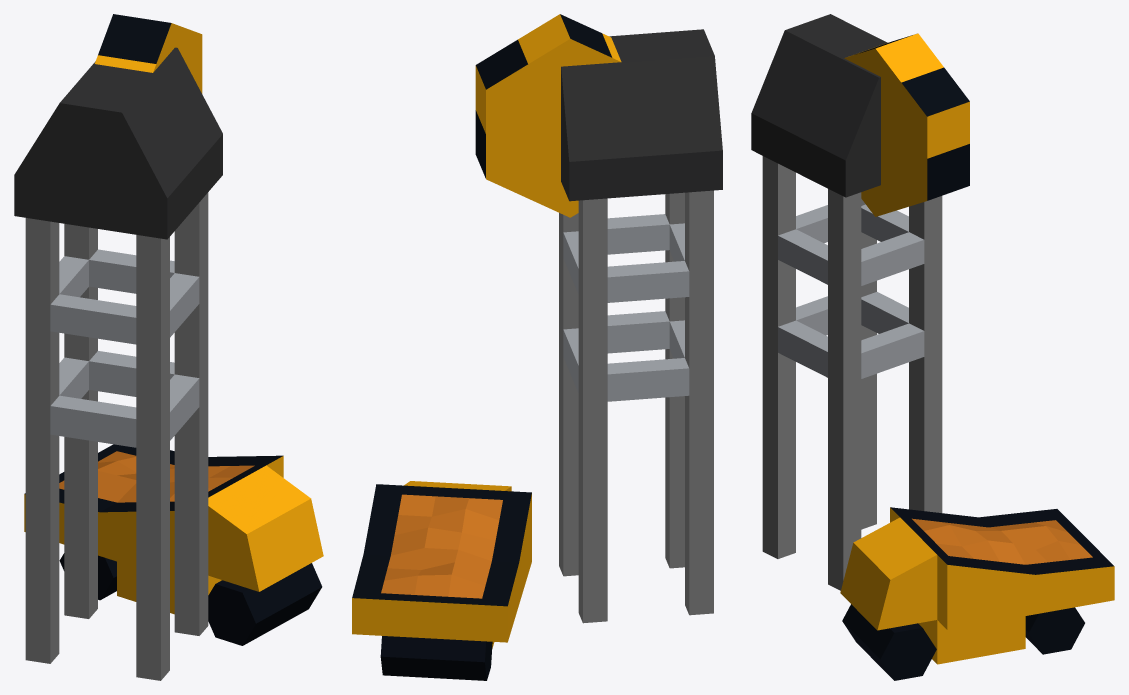
File: Border_2_exploring.fbx
The picture shows the model from 3 angles, left to right: view 1: azimuth 30°, elevation 25°; view 2: azimuth 150°, elevation 25°; view 3: azimuth 270°, elevation 25°; orthographic projection. The views are drawn at different scales.
Parts seen in each view (by area): view 1: Cube.004, Cube.005, Cylinder.002; view 2: Cube.004, Cube.005, Cylinder.002; view 3: Cube.004, Cube.005, Cylinder.002.
Boxes of the visible parts, x1=… form: Cube.004: x1=14, y1=47, x2=222, y2=680; Cube.005: x1=24, y1=444, x2=323, y2=645; Cylinder.002: x1=94, y1=14, x2=202, y2=93; Cube.004: x1=559, y1=29, x2=722, y2=623; Cube.005: x1=352, y1=481, x2=531, y2=680; Cylinder.002: x1=475, y1=14, x2=621, y2=217; Cube.004: x1=751, y1=14, x2=942, y2=590; Cube.005: x1=840, y1=507, x2=1114, y2=680; Cylinder.002: x1=844, y1=33, x2=969, y2=216.
Bounding box in the file's own units: 88.04 × 167 × 96.86.
